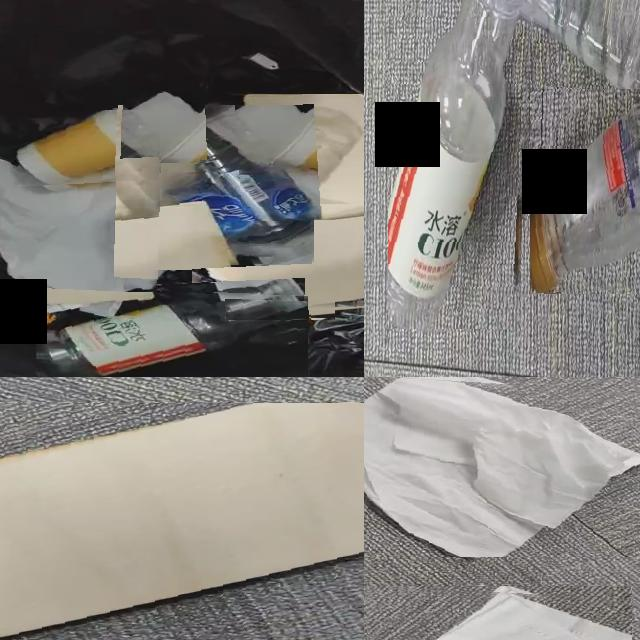bottle: (388, 0, 524, 329), (120, 105, 314, 265), (38, 293, 308, 377), (530, 105, 640, 293), (192, 211, 364, 312)
carton: (0, 403, 364, 640), (235, 95, 364, 217)
dixie_cup: (18, 110, 160, 186)
paper: (364, 377, 640, 557), (0, 158, 159, 292), (123, 93, 204, 164), (225, 299, 335, 320)
